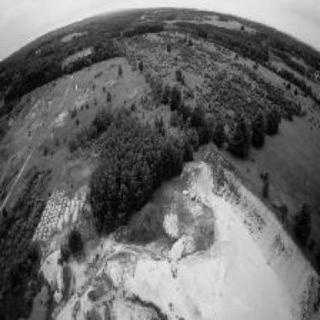other: (147, 173, 306, 311)
